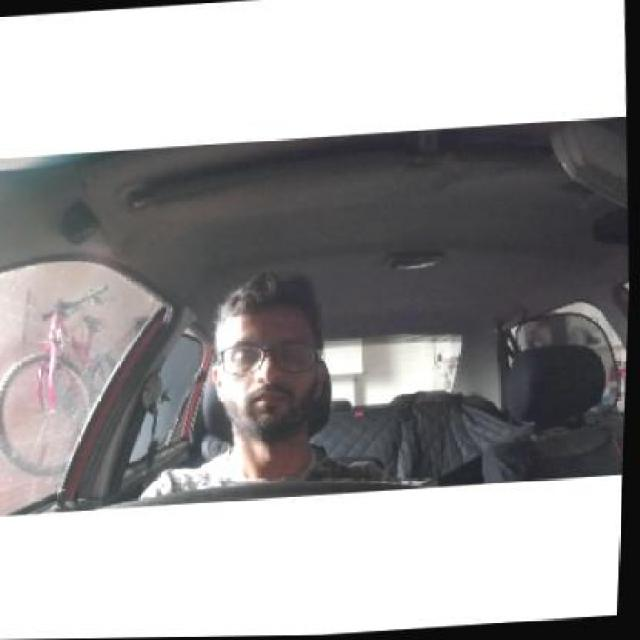drowsy: (200, 273, 328, 444)
